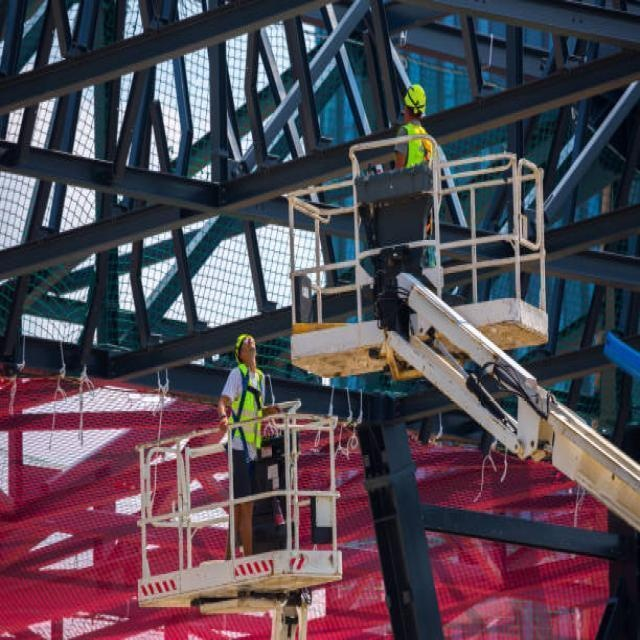Arnes_seguridad: (225, 362, 264, 455)
